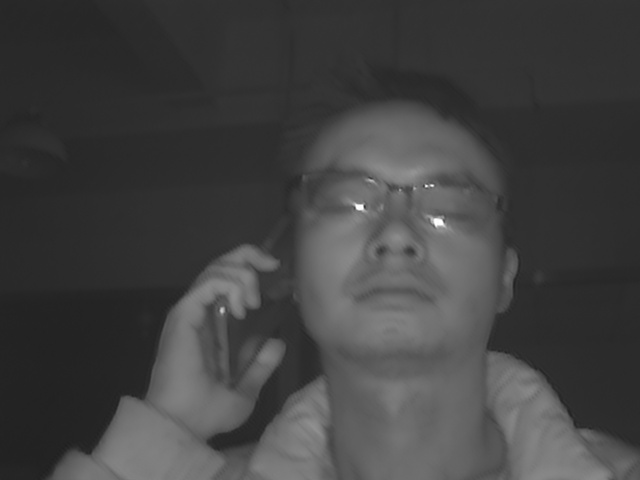hand: (140, 244, 288, 436)
